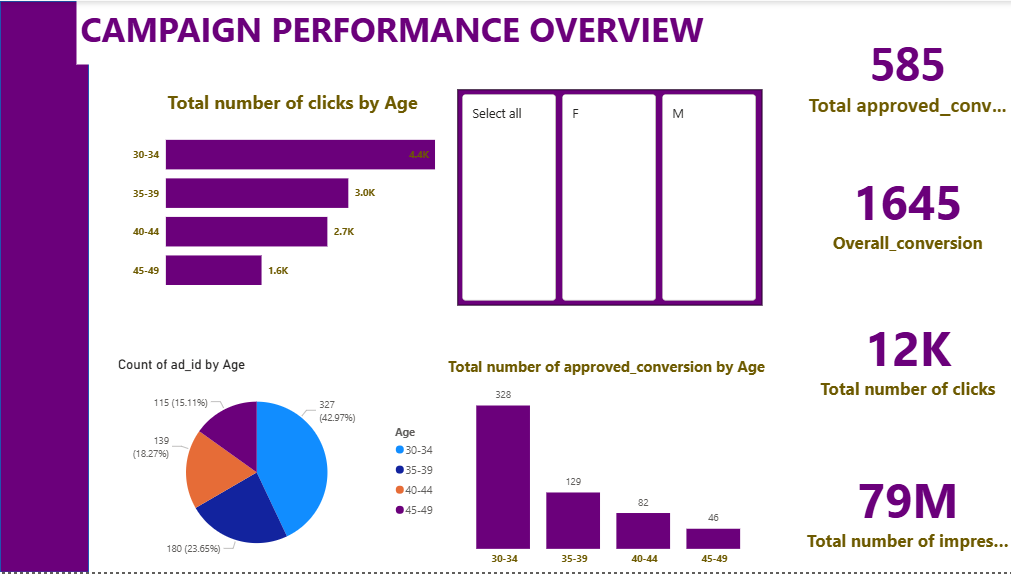

The dashboard page shown, as its layout file describes it:
{"tool":"powerbi","page":{"name":"Page 1","canvas":[1280,720],"ordinal":0},"visuals":[{"type":"card","fields":{"Values":["Sum(Facebook ad.clicks)"]},"box":[1008,352,272,192],"z":0},{"type":"card","fields":{"Values":["Sum(Facebook ad.impressions)"]},"box":[1008,560,272,160],"z":1000},{"type":"card","fields":{"Values":["Sum(Facebook ad.total_conversion)"]},"box":[1008,176,272,176],"z":2000},{"type":"barChart","fields":{"Y":["Sum(Facebook ad.clicks)"],"Category":["Facebook ad.age"]},"box":[160,112,416,272],"z":3000},{"type":"pieChart","fields":{"Y":["CountNonNull(Facebook ad.ad_id)"],"Category":["Facebook ad.age"]},"box":[144,448,416,272],"z":4000},{"type":"columnChart","fields":{"Y":["Sum(Facebook ad.approved_conversion)"],"Category":["Facebook ad.age"]},"box":[560,448,416,272],"z":5000},{"type":"advancedSlicerVisual","fields":{"Values":["Facebook ad.gender"]},"box":[576,112,384,272],"z":6000},{"type":"shape","box":[0,0,112,720],"z":7000},{"type":"textbox","box":[96,0,832,80],"z":8000},{"type":"card","fields":{"Values":["Sum(Facebook ad.approved_conversion)"]},"box":[1008,0,272,176],"z":9000}]}

Visuals, with their boxes in screenshot pixels (x1, y1, x2, y2), scaled from the page's 1280x720 canvas onto the 1011x574 screenshot:
card - Sum(Facebook ad.clicks): {"left": 796, "top": 281, "right": 1010, "bottom": 434}
card - Sum(Facebook ad.impressions): {"left": 796, "top": 446, "right": 1010, "bottom": 573}
card - Sum(Facebook ad.total_conversion): {"left": 796, "top": 140, "right": 1010, "bottom": 281}
barChart - Sum(Facebook ad.clicks) x Facebook ad.age: {"left": 126, "top": 89, "right": 455, "bottom": 306}
pieChart - CountNonNull(Facebook ad.ad_id) x Facebook ad.age: {"left": 114, "top": 357, "right": 442, "bottom": 573}
columnChart - Sum(Facebook ad.approved_conversion) x Facebook ad.age: {"left": 442, "top": 357, "right": 771, "bottom": 573}
advancedSlicerVisual - Facebook ad.gender: {"left": 455, "top": 89, "right": 758, "bottom": 306}
shape: {"left": 0, "top": 0, "right": 88, "bottom": 573}
textbox: {"left": 76, "top": 0, "right": 733, "bottom": 64}
card - Sum(Facebook ad.approved_conversion): {"left": 796, "top": 0, "right": 1010, "bottom": 140}
